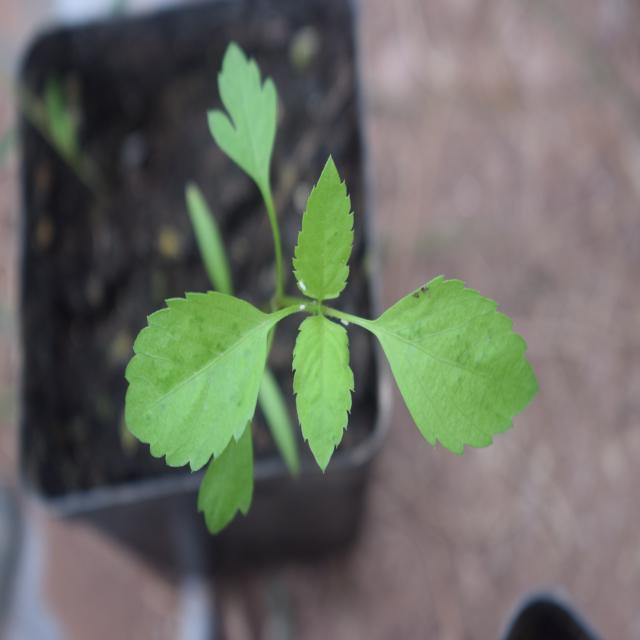Bidens pilosa: (115, 92, 545, 523)
